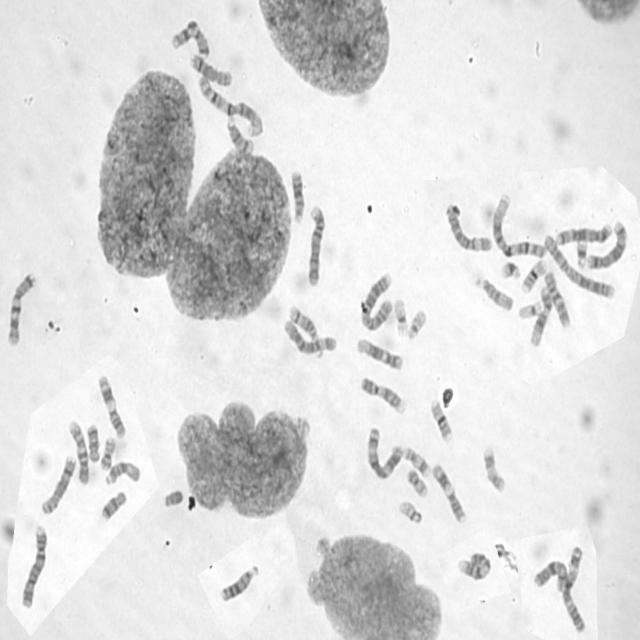A1: (197, 73, 265, 139), (489, 190, 548, 259)
A2: (543, 230, 616, 300), (357, 268, 395, 332)
A3: (560, 541, 586, 635), (364, 423, 404, 482)
B4: (19, 522, 48, 610), (305, 201, 327, 288)
B5: (585, 217, 628, 272), (553, 220, 613, 247)
C10: (542, 267, 572, 330), (66, 416, 90, 486)
C11: (431, 460, 467, 525), (95, 371, 128, 440)
C12: (355, 336, 404, 371), (528, 283, 553, 348)
C6: (444, 202, 492, 252), (283, 318, 337, 356)
C7: (4, 268, 38, 348), (170, 16, 211, 60)
C8: (40, 452, 78, 516), (188, 50, 234, 87)
C9: (358, 374, 407, 416), (456, 549, 492, 582)
D13: (218, 561, 260, 603), (288, 167, 306, 224)
D14: (224, 114, 255, 156), (287, 303, 319, 342)
D15: (474, 273, 516, 313), (104, 458, 142, 487)
E16: (428, 396, 454, 443), (518, 256, 549, 295)
E17: (481, 442, 507, 495), (401, 444, 432, 479)
E18: (99, 488, 128, 522), (85, 421, 100, 463)
F19: (392, 294, 408, 336), (516, 298, 544, 320)
F20: (404, 464, 430, 500), (98, 434, 116, 471)
G21: (499, 259, 522, 280), (574, 238, 589, 270)
G22: (396, 497, 424, 526), (405, 306, 428, 341)
X: (532, 558, 570, 592)
Y: (162, 487, 184, 509)
